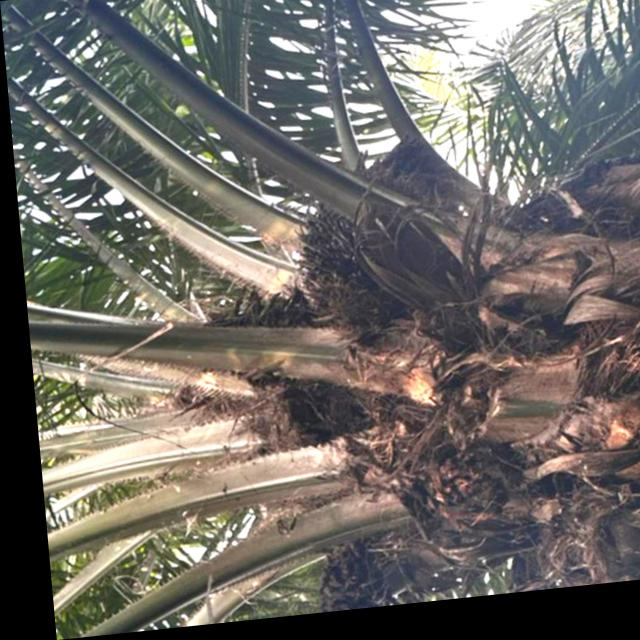almost: (280, 189, 422, 331)
